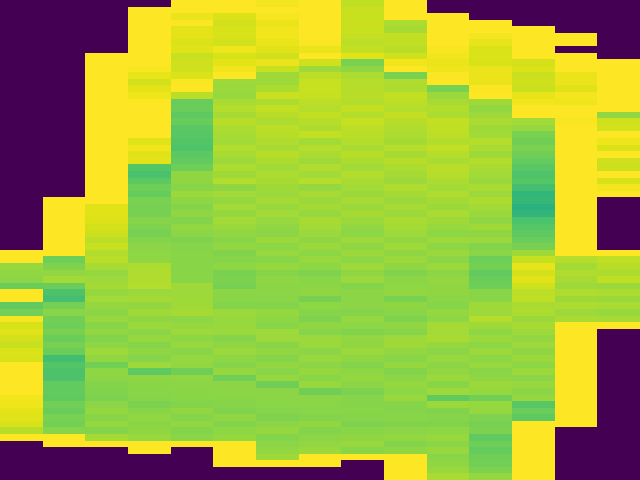car_0027: (4, 2, 640, 480)
